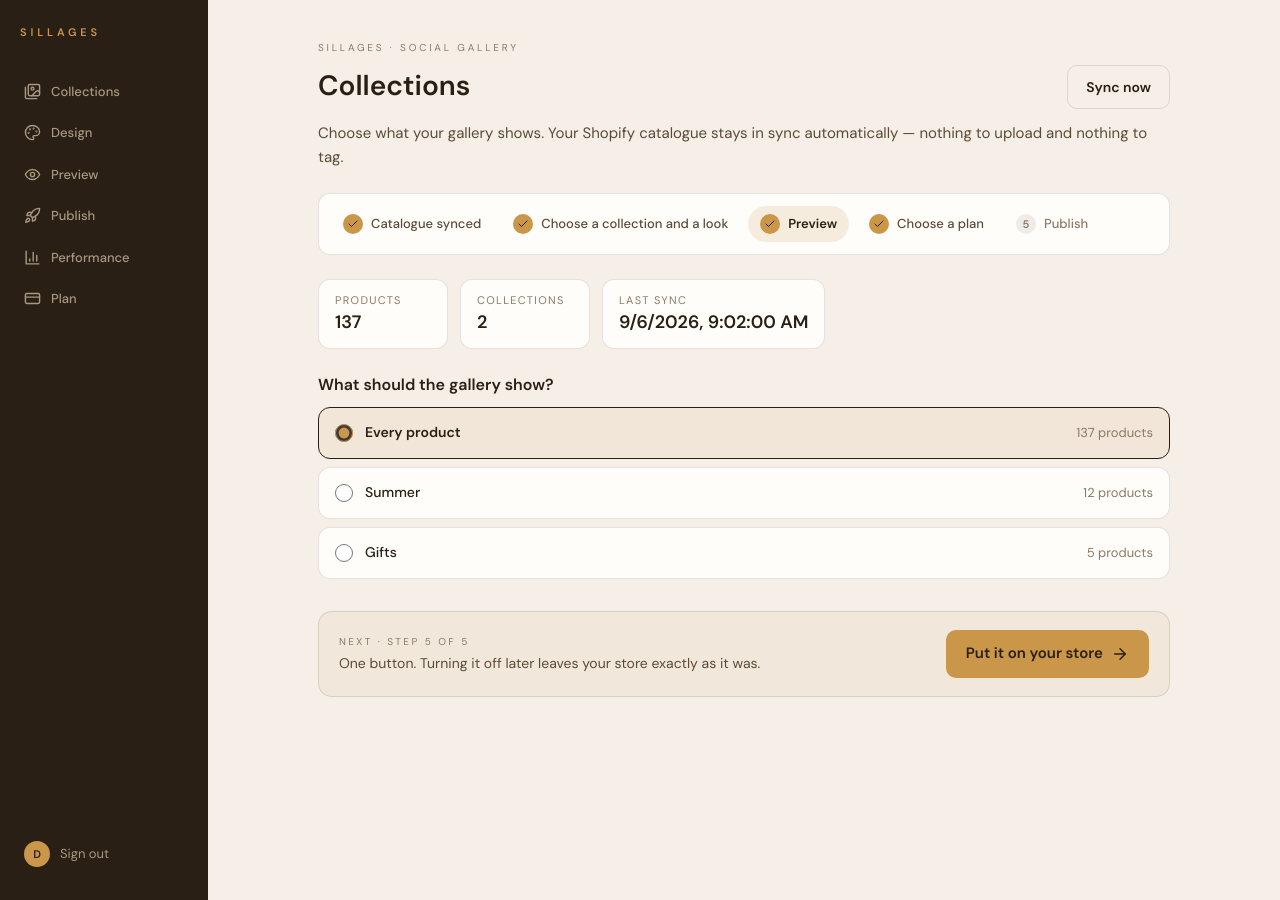
Scenario: C6: failures are visible and actionable › turns a rate limit into plain advice
Click the button "Sync now" at (1119, 87), box [1067, 65, 1170, 109]
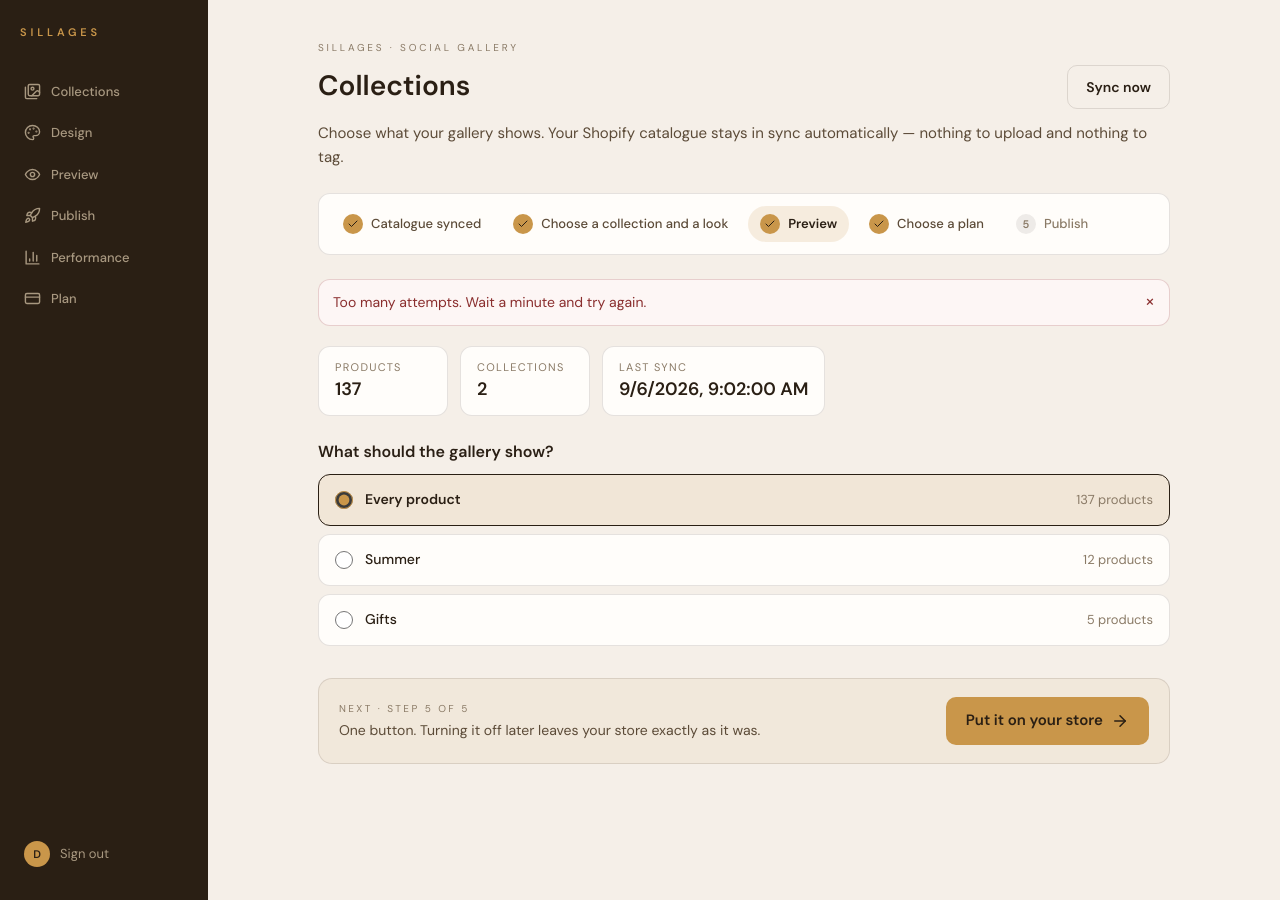
Result: the message shows "Wait a minute and try again" at [333, 293, 646, 311]
